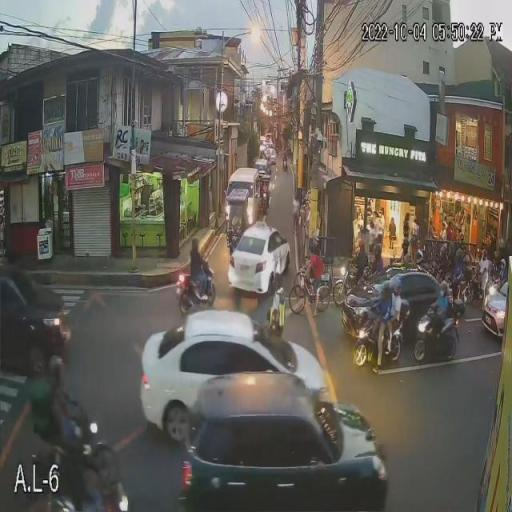helmet: (48, 355, 62, 369), (381, 284, 393, 298), (452, 248, 464, 262), (477, 247, 489, 260), (434, 275, 446, 287), (356, 240, 367, 253), (372, 244, 382, 258), (190, 241, 200, 252), (414, 250, 424, 261)
motorcycle: (50, 395, 126, 512), (351, 308, 403, 369), (412, 303, 462, 364), (175, 261, 217, 314), (446, 266, 485, 306), (268, 298, 286, 340)
rider: (45, 365, 89, 445), (376, 282, 402, 342), (428, 280, 454, 335), (186, 242, 212, 296), (451, 255, 473, 290)
